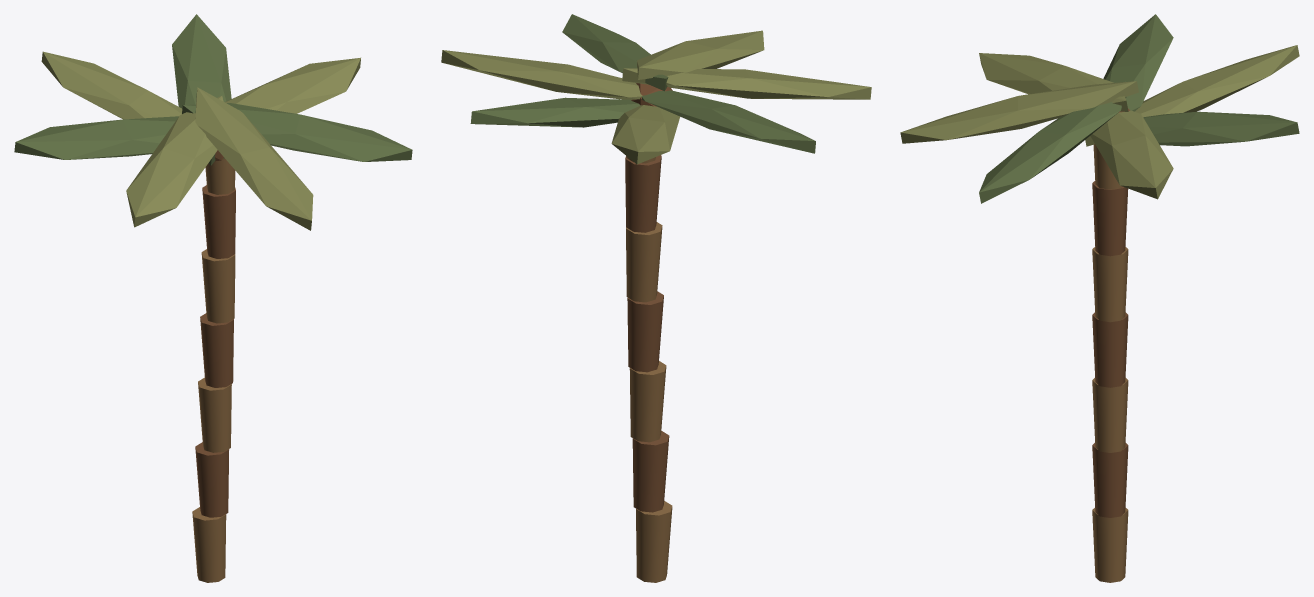
File: courtyard-palm.glb
3 views of the same model, side by side, from view 1: azimuth 30°, elevation 25°; view 2: azimuth 150°, elevation 25°; view 3: azimuth 270°, elevation 25° (orthographic). The views are drawn at different scales.
Visible parts, largest first — view 1: courtyard-palm-surface, wind-leaf-44-surface, wind-leaf-50-surface, wind-leaf-45-surface, wind-leaf-49-surface, wind-leaf-48-surface, wind-leaf-46-surface, wind-leaf-47-surface; view 2: courtyard-palm-surface, wind-leaf-50-surface, wind-leaf-46-surface, wind-leaf-49-surface, wind-leaf-47-surface, wind-leaf-44-surface, wind-leaf-48-surface, wind-leaf-45-surface; view 3: courtyard-palm-surface, wind-leaf-44-surface, wind-leaf-45-surface, wind-leaf-46-surface, wind-leaf-48-surface, wind-leaf-47-surface, wind-leaf-50-surface, wind-leaf-49-surface.
Part boxes in pixels (x1,y1,x2,y2): courtyard-palm-surface: (192, 150, 235, 582); wind-leaf-44-surface: (195, 87, 313, 230); wind-leaf-50-surface: (126, 96, 223, 227); wind-leaf-45-surface: (182, 103, 412, 161); wind-leaf-49-surface: (14, 116, 178, 159); wind-leaf-48-surface: (41, 51, 224, 158); wind-leaf-46-surface: (225, 57, 360, 113); wind-leaf-47-surface: (172, 14, 231, 165); courtyard-palm-surface: (625, 83, 672, 582); wind-leaf-50-surface: (622, 68, 871, 99); wind-leaf-46-surface: (441, 50, 642, 99); wind-leaf-49-surface: (641, 90, 815, 153); wind-leaf-47-surface: (470, 97, 640, 127); wind-leaf-44-surface: (637, 30, 764, 79); wind-leaf-48-surface: (611, 105, 679, 164); wind-leaf-45-surface: (562, 14, 668, 91); courtyard-palm-surface: (1092, 108, 1129, 582); wind-leaf-44-surface: (900, 81, 1138, 143); wind-leaf-45-surface: (979, 81, 1126, 203); wind-leaf-46-surface: (1090, 110, 1173, 199); wind-leaf-48-surface: (1085, 45, 1299, 146); wind-leaf-47-surface: (1143, 111, 1299, 146); wind-leaf-50-surface: (979, 53, 1128, 111); wind-leaf-49-surface: (1103, 14, 1173, 111).
Bounding box in the file's own units: 5.23 × 6.95 × 5.07.
